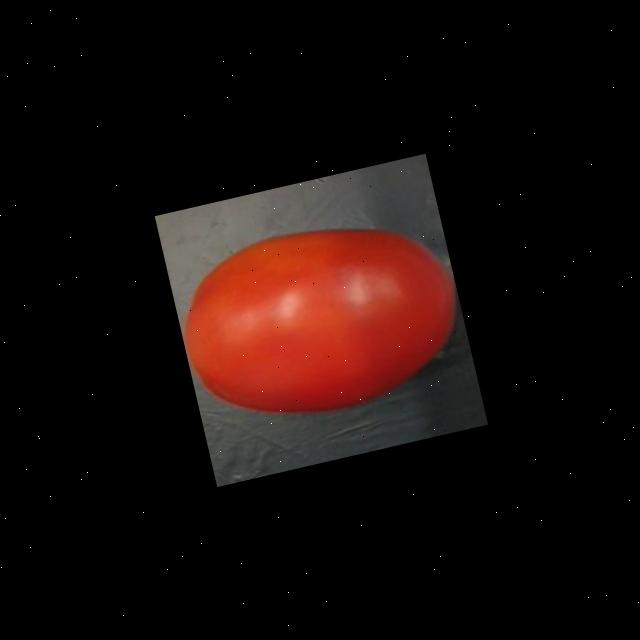tomato: (163, 194, 476, 443)
